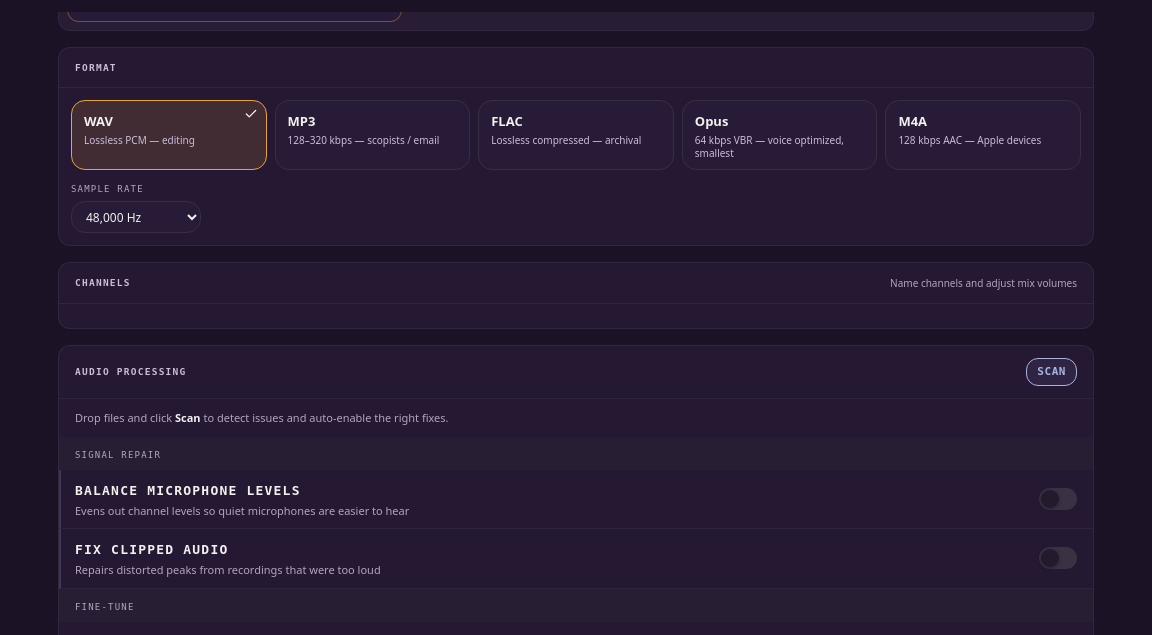
Test: ConvertTab scan cancellation › keeps a failed user cancellation visible and retryable
(page scrolled)
Click the button "Scan" at (1052, 372), box 1026,358 -> 1077,386
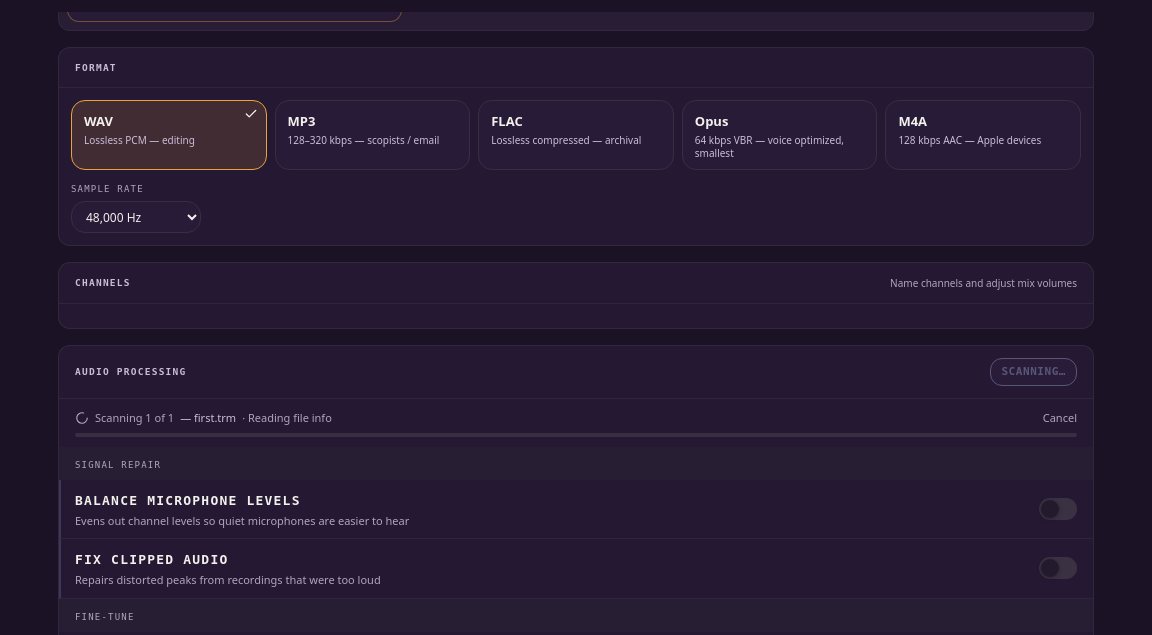
Now the message named "Recording scan status" shows "Scanning 1 of 1", box 75,409 -> 332,427
Click the button "Cancel" at (1060, 418), box 1043,409 -> 1077,427
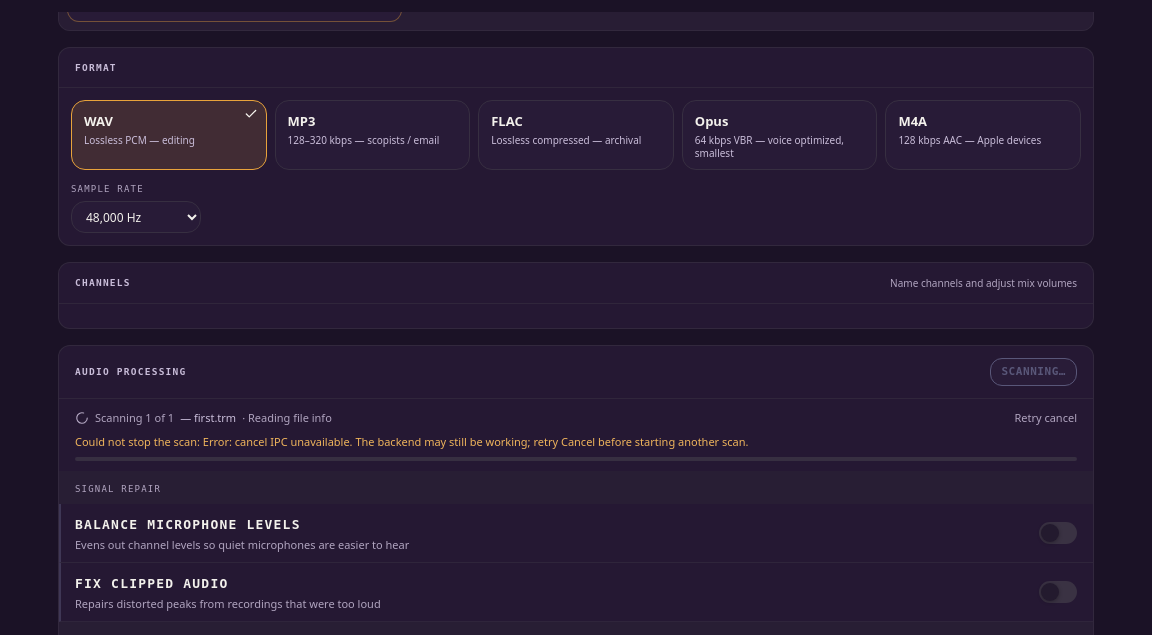
Now the button "Retry cancel" is enabled
Now the 2nd message shows "Could not stop the scan", box 75,434 -> 748,449
Now the 2nd message shows "cancel IPC unavailable", box 75,434 -> 748,449
Click the button "Retry cancel" at (1046, 418), box 1014,409 -> 1077,427
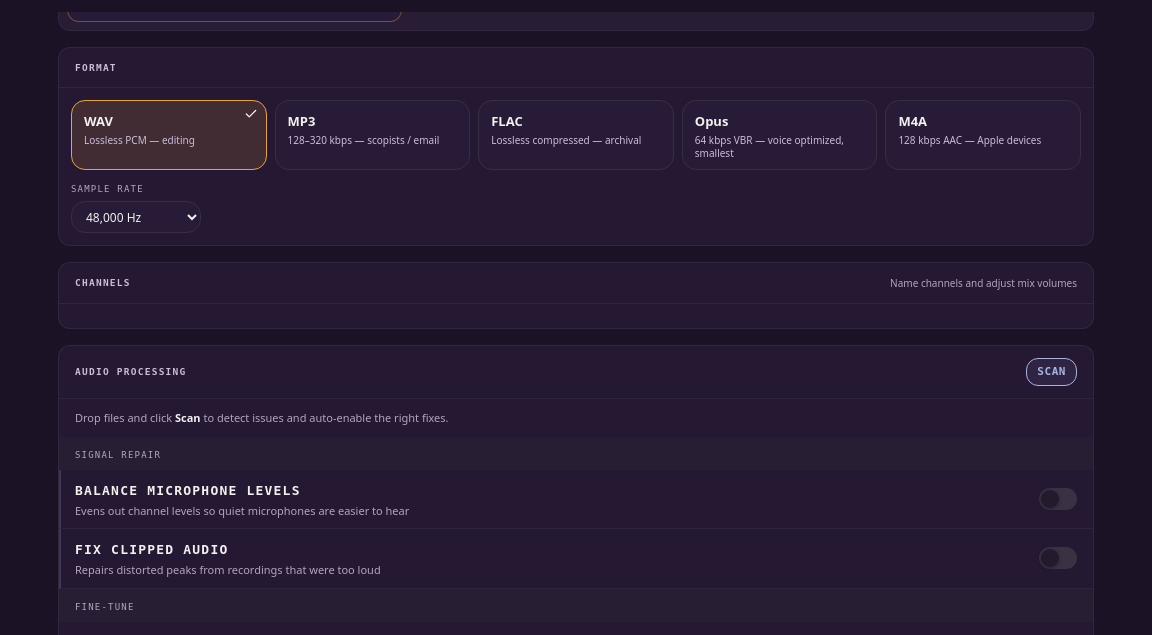
Now the button "Scan" is enabled, box 1026,358 -> 1077,386
